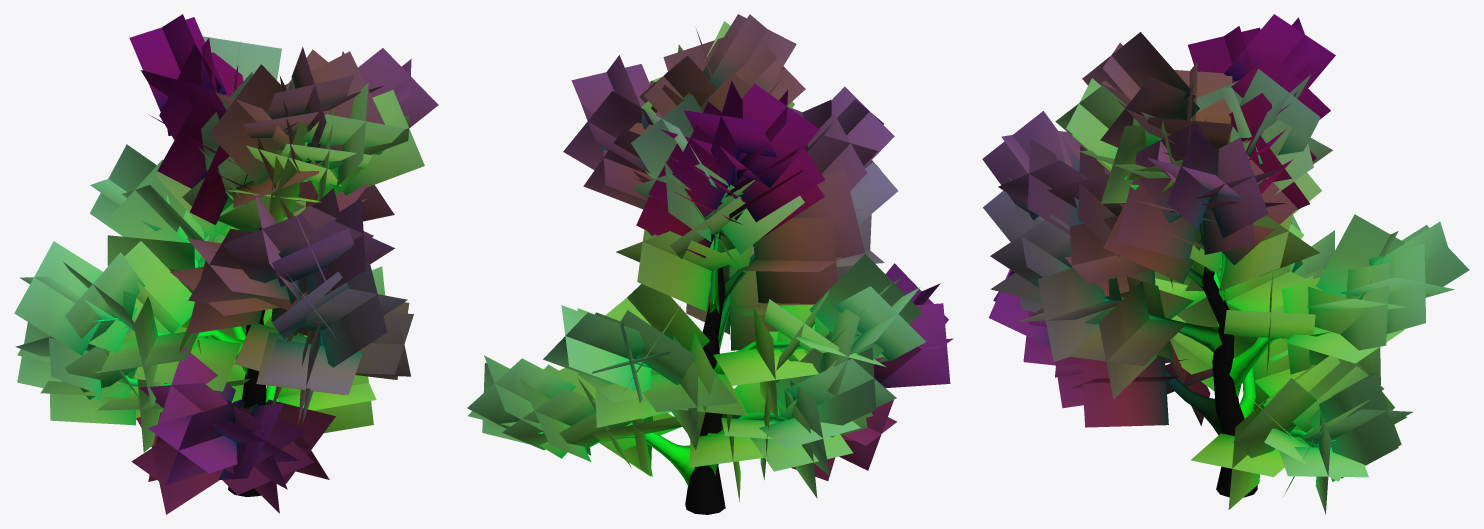
Rendered from URP_P11_Tree_7_LOD_2.fbx.
The picture shows the model from 3 angles, left to right: view 1: azimuth 30°, elevation 25°; view 2: azimuth 150°, elevation 25°; view 3: azimuth 270°, elevation 25°; orthographic projection. The views are drawn at different scales.
Visible parts, largest first — view 1: Tree_7_LOD_2; view 2: Tree_7_LOD_2; view 3: Tree_7_LOD_2.
Part boxes in pixels (<box>): Tree_7_LOD_2: <box>14,14,438,514</box>; Tree_7_LOD_2: <box>467,14,953,514</box>; Tree_7_LOD_2: <box>982,14,1469,514</box>.
Bounding box in the file's own units: 590 × 638 × 614.
